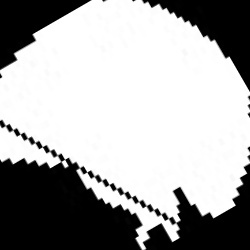spot: (2, 1, 249, 247)
